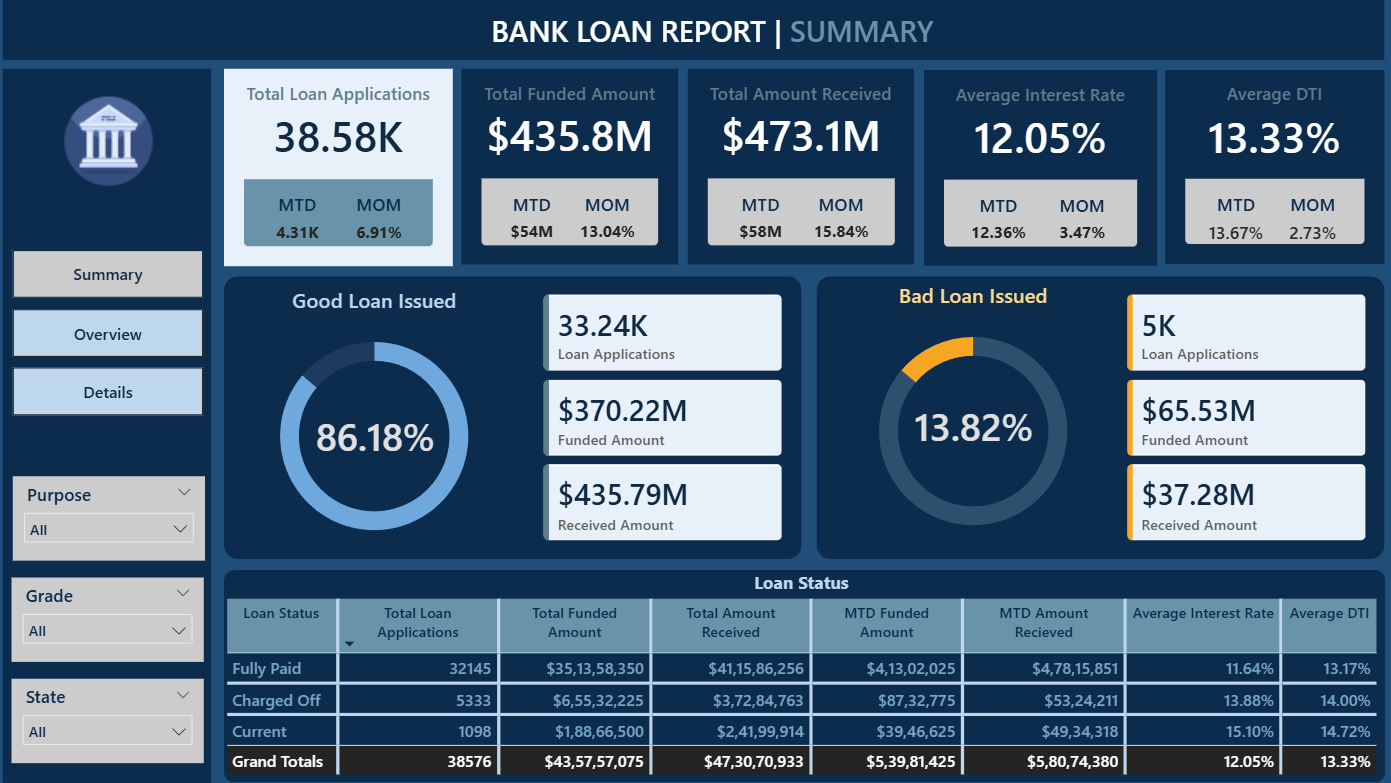

The page's visual inventory and layout, read from the dashboard file:
{"tool":"powerbi","page":{"name":"Summary","canvas":[1280,720],"ordinal":0},"visuals":[{"type":"shape","box":[3.9,0,1270.6,55],"z":0},{"type":"shape","box":[3.9,63.3,191.7,656.7],"z":1000},{"type":"textbox","box":[434.1,4.5,443,50.1],"z":2000},{"type":"cardVisual","fields":{"Data":["bank_loan_data.Total Loan Applications"]},"box":[207.1,62.9,210,181.4],"z":3000},{"type":"cardVisual","fields":{"Data":["bank_loan_data.Total Funded Amount"]},"box":[425.5,63.3,199.4,180],"z":4000},{"type":"cardVisual","fields":{"Data":["bank_loan_data.Total Amount Received"]},"box":[633.3,63.3,208.3,180],"z":5000},{"type":"cardVisual","fields":{"Data":["bank_loan_data.Average Interest Rate"]},"box":[850,63.9,214.4,180],"z":6000},{"type":"shape","box":[206.7,254.4,531.1,260],"z":7000},{"type":"cardVisual","fields":{"Data":["bank_loan_data.Avg DTI"]},"box":[1072.9,64.3,201.4,178.6],"z":8000},{"type":"shape","box":[752.2,254.4,522.2,260],"z":9000},{"type":"donutChart","title":"Good Loan Issued","fields":{"Category":["bank_loan_data.Good vs Bad Loan"],"Y":["bank_loan_data.Total Loan Applications"]},"box":[206.7,263.3,276.7,251.1],"z":10000},{"type":"card","fields":{"Values":["bank_loan_data.Good Loan %"]},"box":[282.2,368.9,126.7,64.4],"z":11000},{"type":"cardVisual","fields":{"Data":["bank_loan_data.Good Loan Applications","bank_loan_data.Good Loan Funded Amount","bank_loan_data.Good Loan Received Amount"]},"box":[483.3,254.4,253.3,260],"z":12000},{"type":"donutChart","title":"Bad Loan Issued","fields":{"Category":["bank_loan_data.Good vs Bad Loan"],"Y":["bank_loan_data.Total Loan Applications"]},"box":[763.3,258.9,265.6,251.1],"z":13000},{"type":"card","fields":{"Values":["bank_loan_data.Bad Loan %"]},"box":[833.3,360,126.7,64.4],"z":14000},{"type":"cardVisual","fields":{"Data":["bank_loan_data.Bad Loan Applications","bank_loan_data.Bad Loan Funded Amount","bank_loan_data.Bad Loan Received Amount"]},"box":[1021.1,254.4,253.3,260],"z":15000},{"type":"shape","box":[206.7,524.4,1067.8,195.6],"z":16000},{"type":"tableEx","title":"Loan Status","fields":{"Values":["bank_loan_data.loan_status","bank_loan_data.Total Loan Applications","bank_loan_data.Total Funded Amount","bank_loan_data.Total Amount Received","bank_loan_data.MTD Funded Amount","bank_loan_data.MTD Amount Recieved","bank_loan_data.Average Interest Rate","bank_loan_data.Average DTI"]},"box":[203.3,524.4,1068.9,195.6],"z":17000},{"type":"slicer","fields":{"Values":["bank_loan_data.address_state"]},"box":[11.1,624.1,176.7,77.8],"z":18000},{"type":"slicer","fields":{"Values":["bank_loan_data.grade"]},"box":[11.1,530.8,176.7,77.8],"z":19000},{"type":"slicer","fields":{"Values":["bank_loan_data.purpose"]},"box":[12.2,437.5,176.7,77.8],"z":20000},{"type":"image","box":[47.1,85.7,107.1,87.1],"z":20001},{"type":"pageNavigator","box":[12.9,230,175.7,154.3],"z":20002}]}

Visuals, with their boxes in screenshot pixels (x1, y1, x2, y2), scaled from the page's 1280x720 canvas onto the 1391x783 screenshot:
shape: 4, 0, 1385, 60
shape: 4, 69, 213, 782
textbox: 472, 5, 953, 59
cardVisual - bank_loan_data.Total Loan Applications: 225, 68, 453, 266
cardVisual - bank_loan_data.Total Funded Amount: 462, 69, 679, 265
cardVisual - bank_loan_data.Total Amount Received: 688, 69, 915, 265
cardVisual - bank_loan_data.Average Interest Rate: 924, 69, 1157, 265
shape: 225, 277, 802, 559
cardVisual - bank_loan_data.Avg DTI: 1166, 70, 1385, 264
shape: 817, 277, 1385, 559
"Good Loan Issued" donutChart: 225, 286, 525, 559
card - bank_loan_data.Good Loan %: 307, 401, 444, 471
cardVisual - bank_loan_data.Good Loan Applications x bank_loan_data.Good Loan Funded Amount: 525, 277, 800, 559
"Bad Loan Issued" donutChart: 829, 282, 1118, 555
card - bank_loan_data.Bad Loan %: 906, 391, 1043, 462
cardVisual - bank_loan_data.Bad Loan Applications x bank_loan_data.Bad Loan Funded Amount: 1110, 277, 1385, 559
shape: 225, 570, 1385, 782
"Loan Status" tableEx: 221, 570, 1383, 782
slicer - bank_loan_data.address_state: 12, 679, 204, 763
slicer - bank_loan_data.grade: 12, 577, 204, 662
slicer - bank_loan_data.purpose: 13, 476, 205, 560
image: 51, 93, 168, 188
pageNavigator: 14, 250, 205, 418
